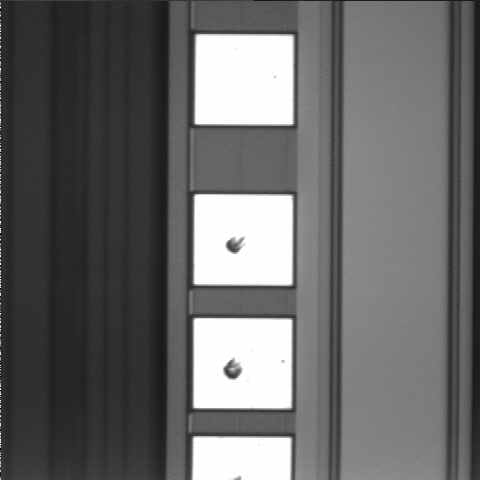pad: (194, 194, 293, 285), (195, 34, 293, 125), (194, 318, 292, 408)
